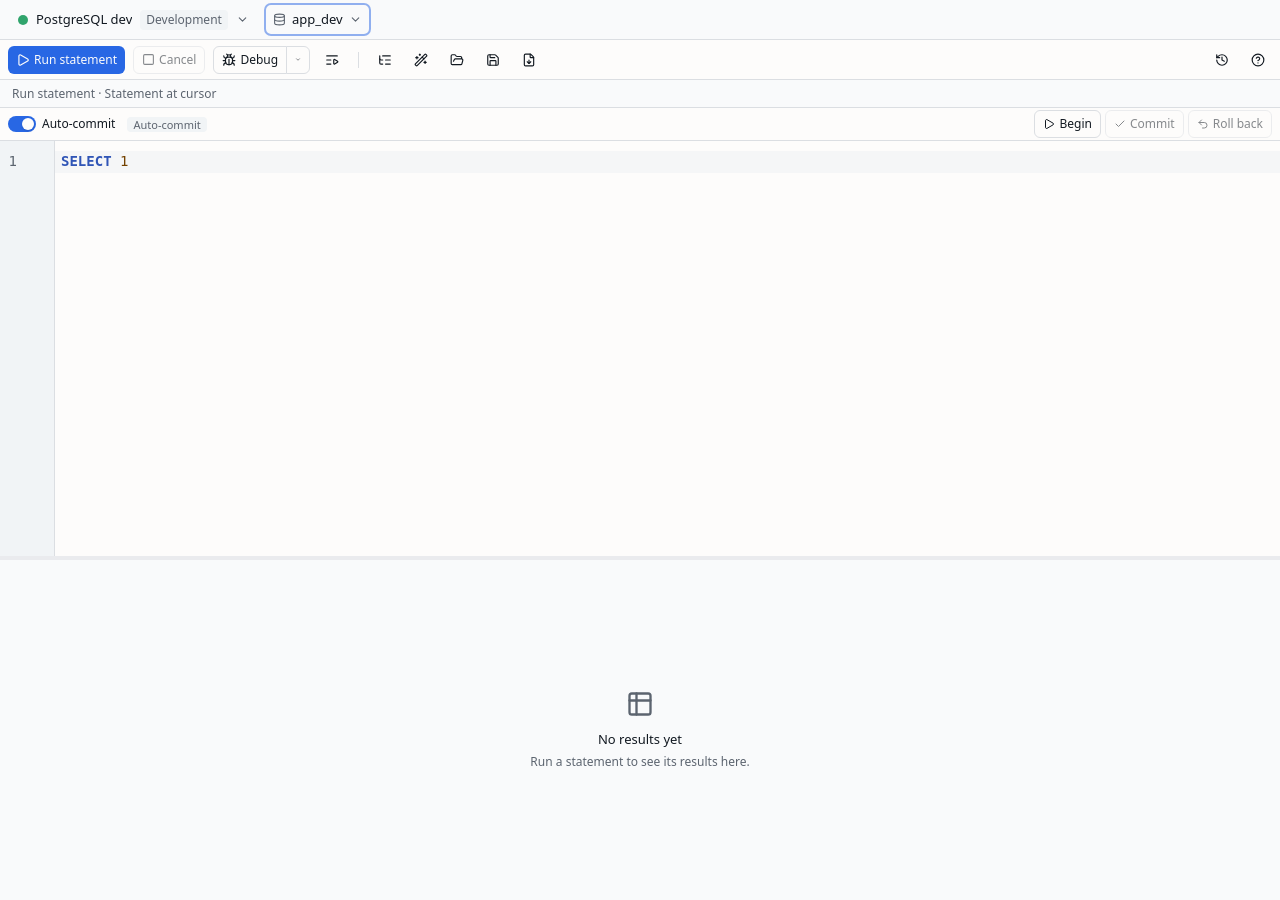
Scenario: database picker › only patches the tab when it has no lease
This screenshot has width=1280, height=900.
Expected: the element with test id "sql-editor" is shown, x1=0 y1=141 x2=1279 y2=556
Press Enter
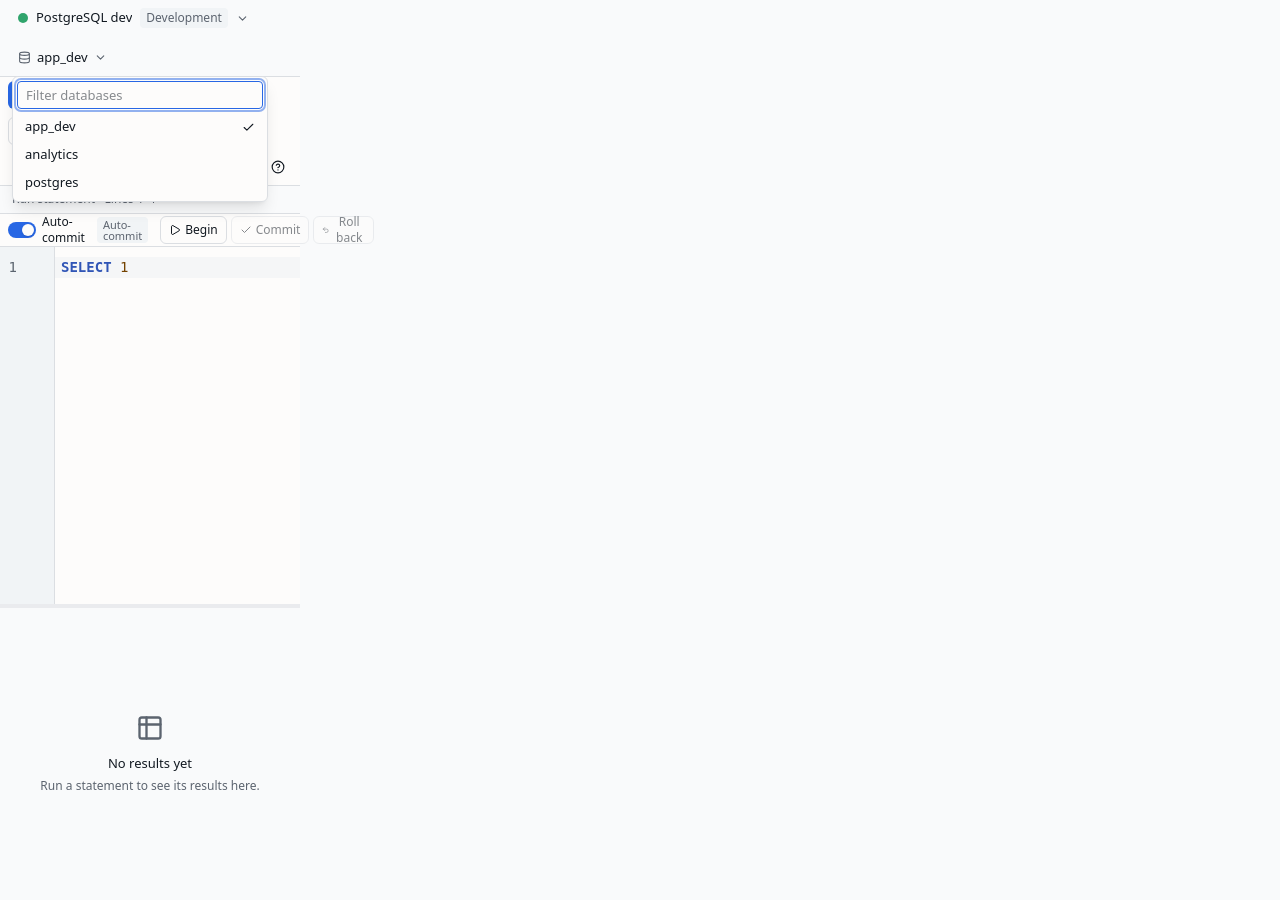
Click the menu item "analytics": click(52, 154) x1=25 y1=145 x2=78 y2=163
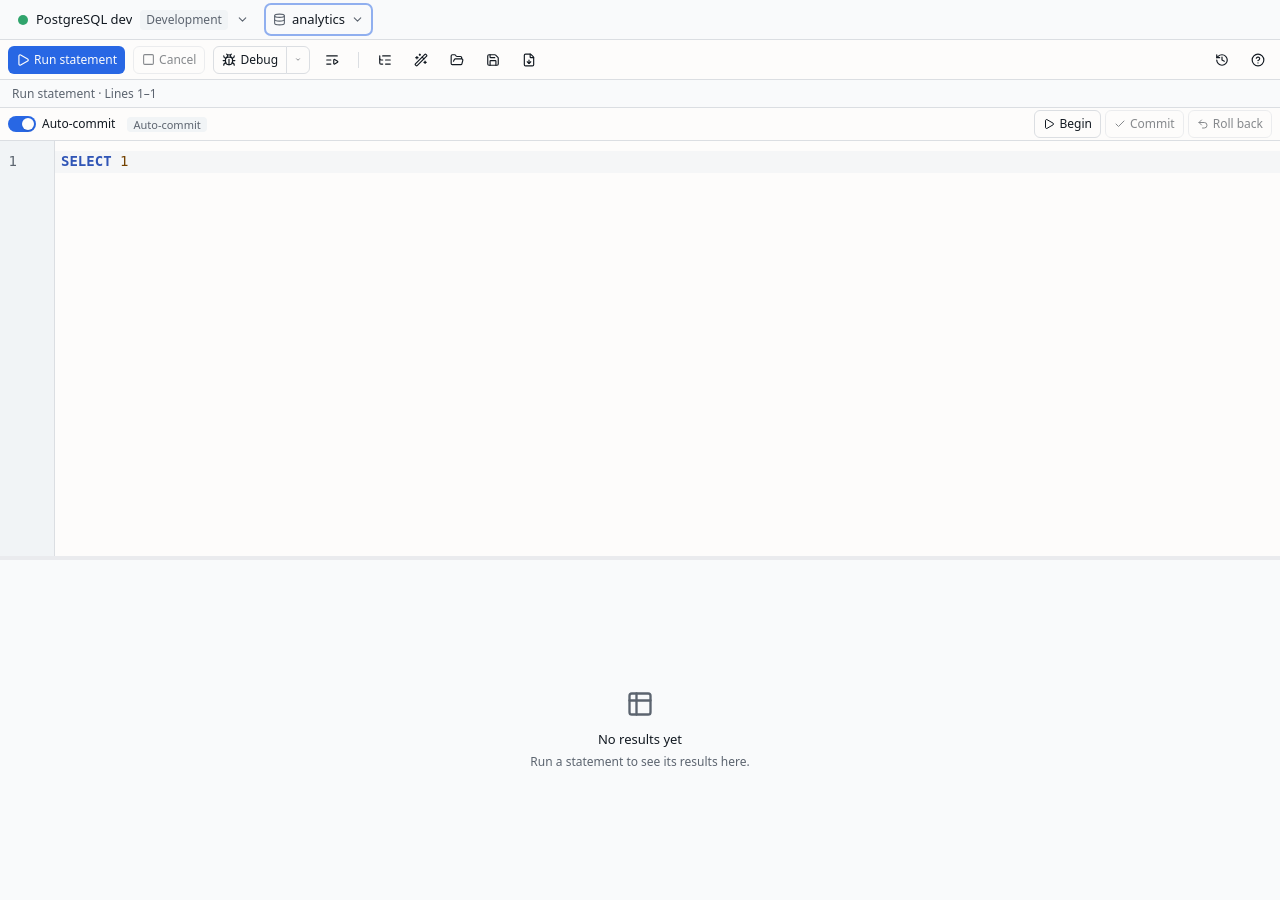
Expected: the text "analytics" is shown, x1=292 y1=10 x2=345 y2=29
